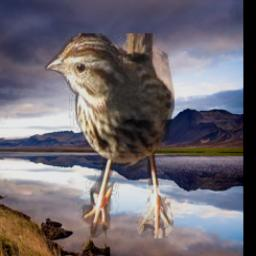Sparrow: (43, 34, 176, 239)
